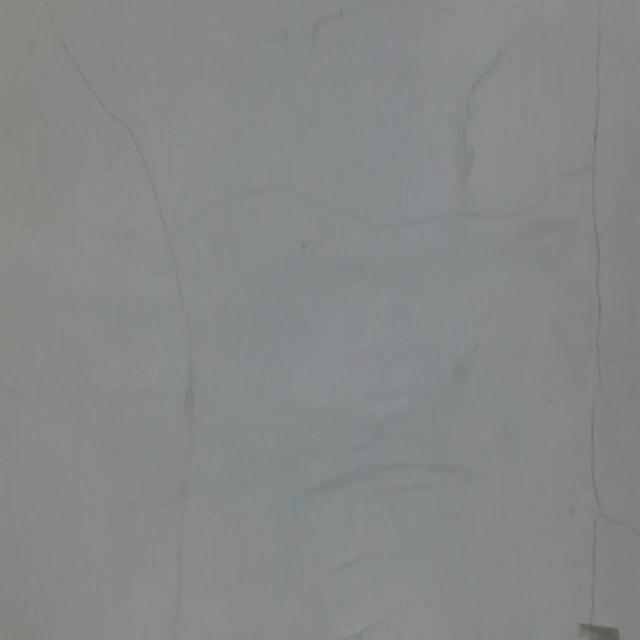Crack: (38, 0, 203, 640), (573, 0, 621, 614), (342, 163, 572, 248)
